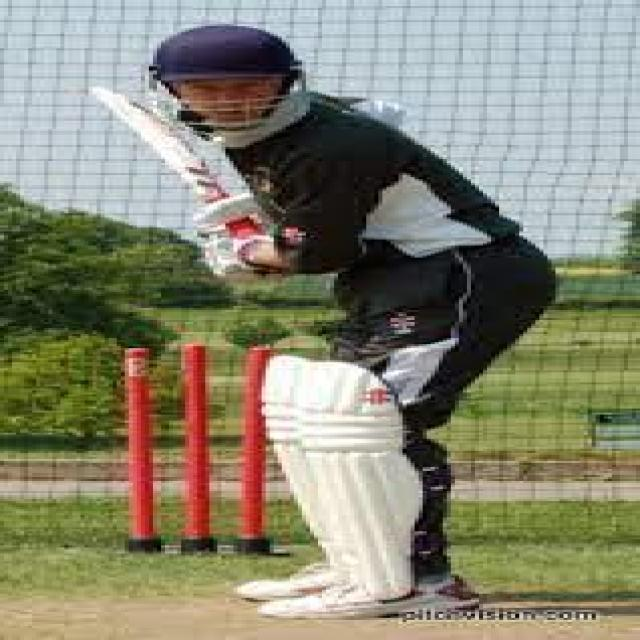bat: (76, 84, 226, 204)
toe: (78, 86, 136, 118)
